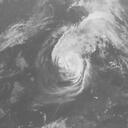cyclone: (51, 32, 90, 83)
